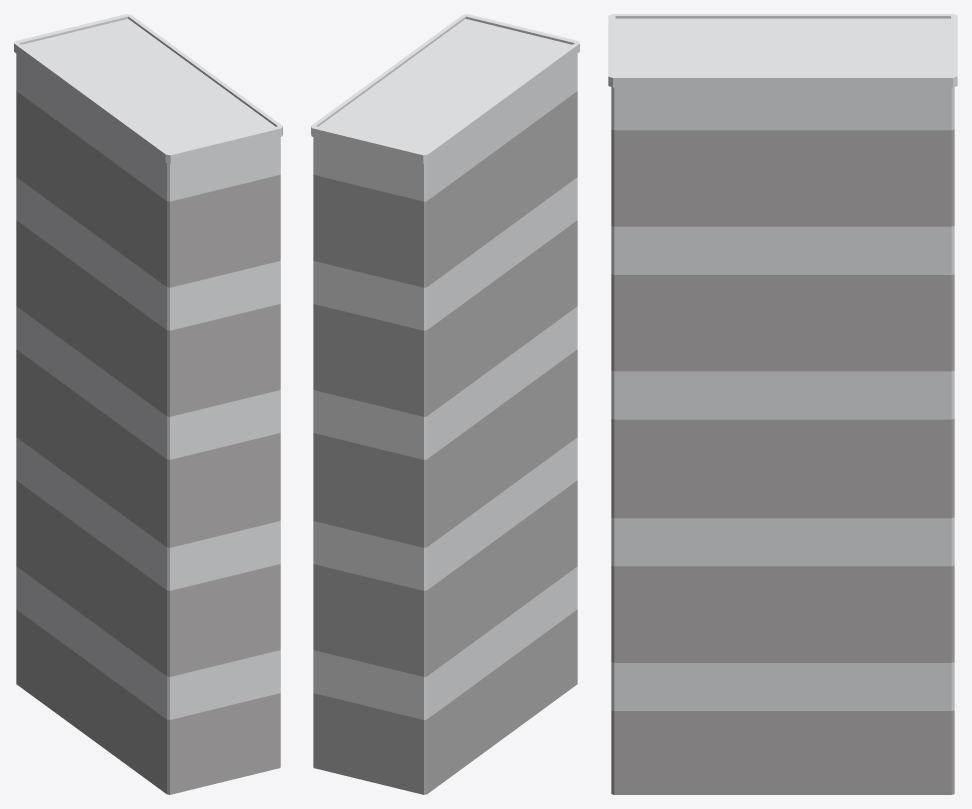
File: Building_08.fbx
3 renders of one model, left to right at view 1: azimuth 30°, elevation 25°; view 2: azimuth 150°, elevation 25°; view 3: azimuth 270°, elevation 25°, orthographic. The views are drawn at different scales.
Visible parts, largest first — view 1: Building_03; view 2: Building_03; view 3: Building_03.
Part boxes in pixels (x1,y1,x2,y2): Building_03: [14, 14, 282, 794]; Building_03: [311, 14, 579, 794]; Building_03: [608, 14, 957, 794].
Bounding box in the file's own units: 2163 × 11305 × 4985.
